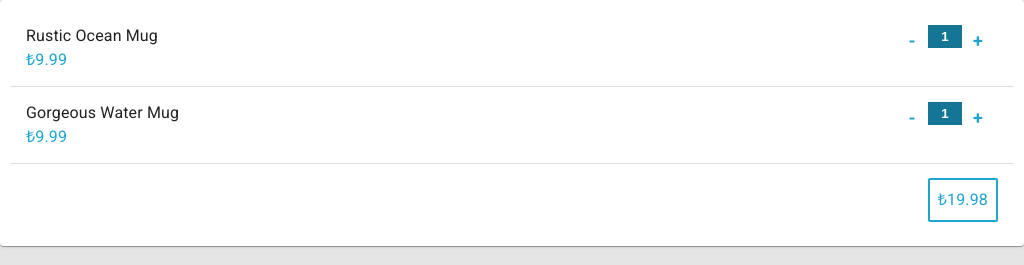
Scenario: Cart component test › Increase item count
Click the button with test id "inc-button" in the row of "Rustic Ocean Mug" at x=978, y=40, box [973,30,983,51]
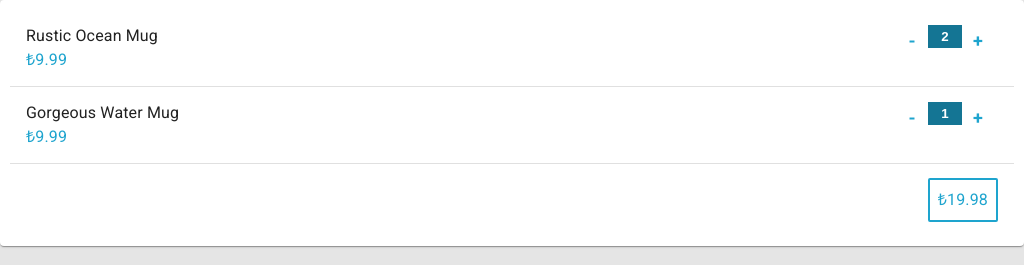
Click the button with test id "inc-button" in the row of "Rustic Ocean Mug" at x=978, y=40, box [973,30,983,51]
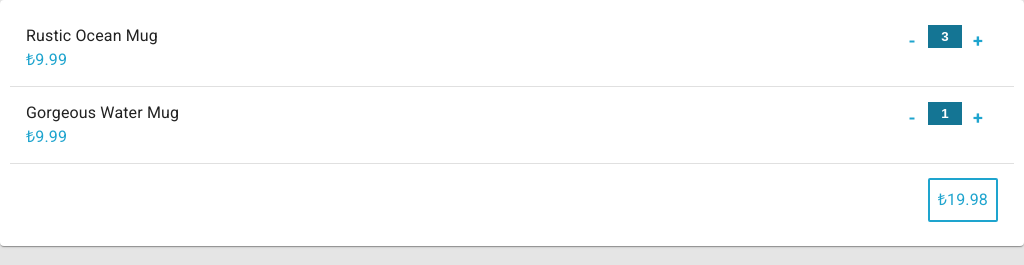
Result: the number field with test id "cart-item-value" in the row of "Rustic Ocean Mug" holds "3" at [928,25,962,48]
